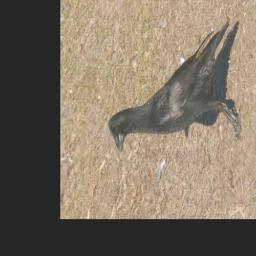Crow: (101, 2, 256, 171)
